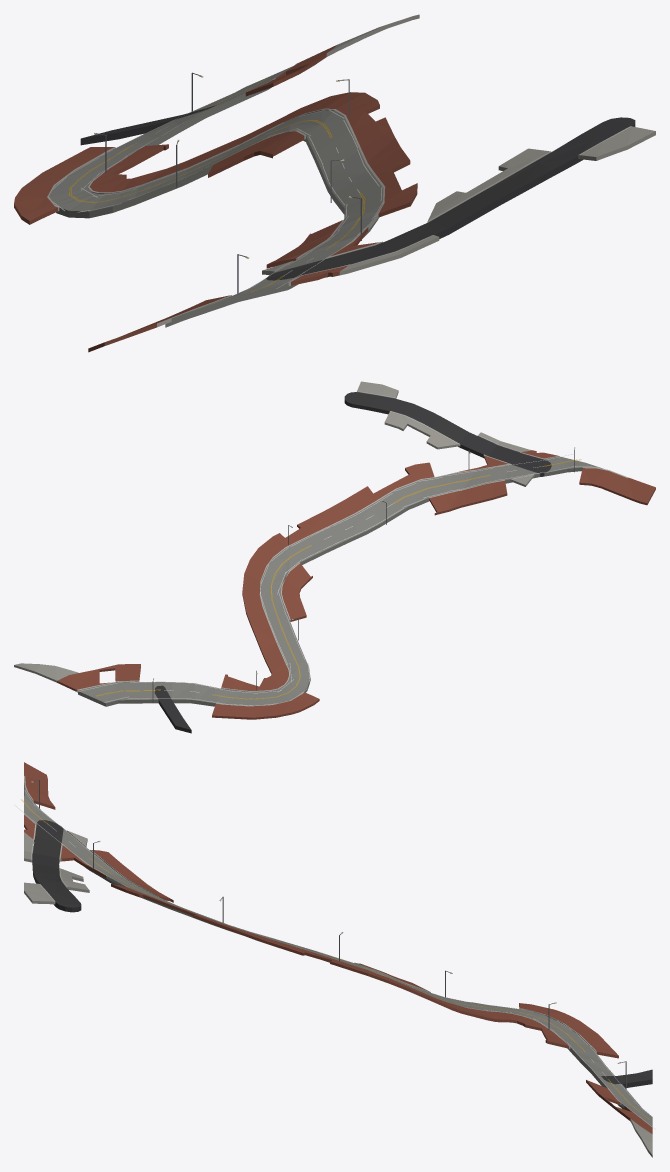
3 renders of one model, top to bottom at view 1: azimuth 30°, elevation 25°; view 2: azimuth 150°, elevation 25°; view 3: azimuth 270°, elevation 25°, orthographic. The views are drawn at different scales.
Bounding box in the file's own units: 142 × 55.18 × 149.
